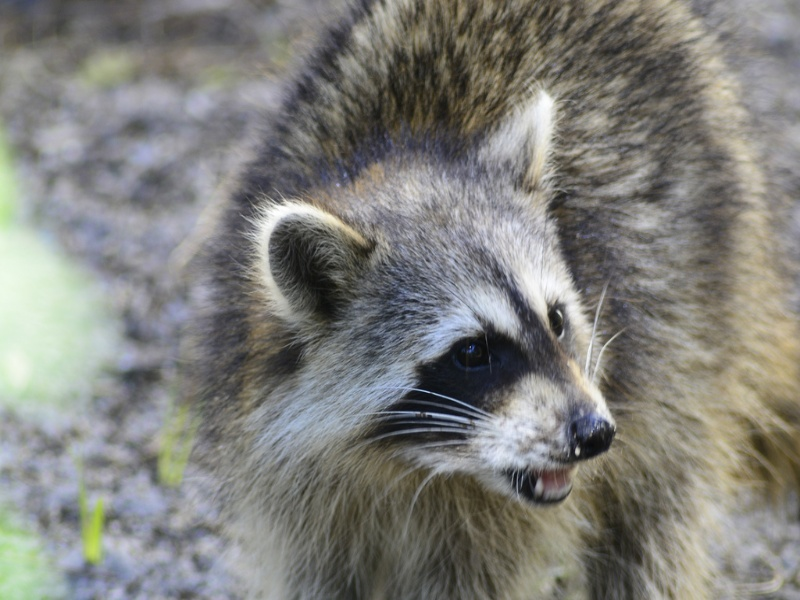raccoon: (203, 1, 796, 599)
